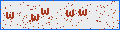w: (30, 13, 40, 22), (65, 9, 75, 18), (41, 7, 50, 16), (5, 11, 15, 19), (78, 9, 87, 16)
